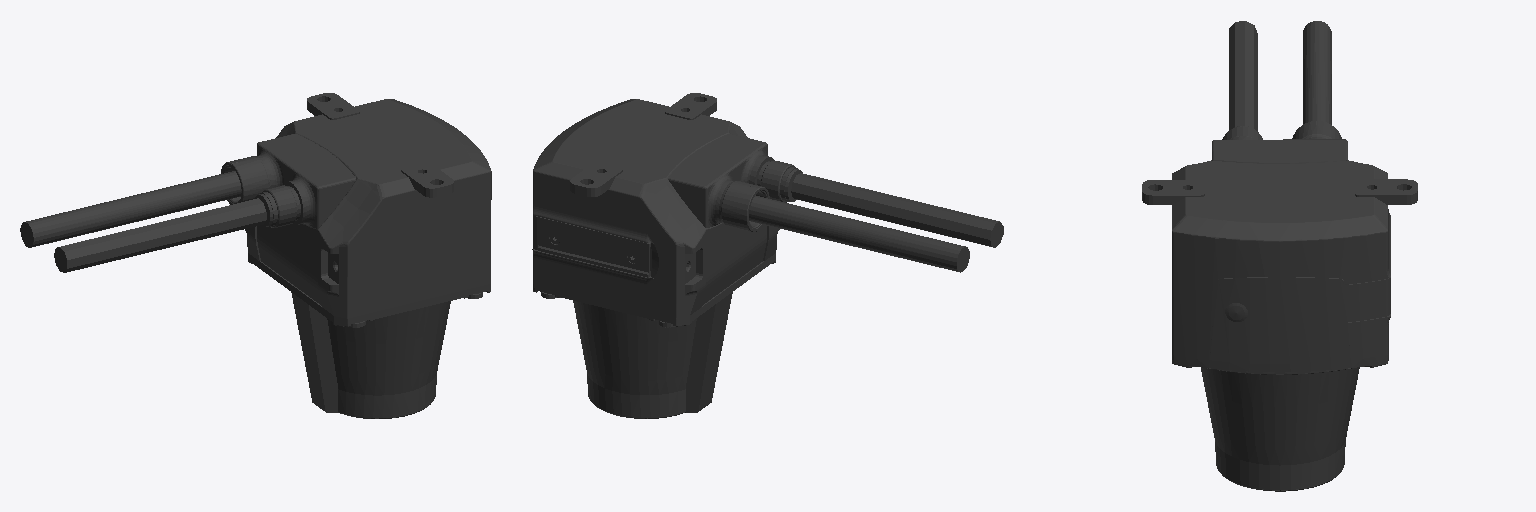
The robot description file, URDF, robot "storagy":
<?xml version="1.0" ?>
<robot name="storagy" xmlns:xacro="http://ros.org/wiki/xacro">
  <!-- <xacro:include filename="$(find storagy)/urdf/common_properties.urdf"/> -->

  <!-- Init colour -->
  <material name="black">
      <color rgba="0.0 0.0 0.0 1.0"/>
  </material>

  <material name="dark">
    <color rgba="0.3 0.3 0.3 1.0"/>
  </material>

  <material name="light_black">
    <color rgba="0.4 0.4 0.4 1.0"/>
  </material>

  <material name="blue">
    <color rgba="0.0 0.0 0.8 1.0"/>
  </material>

  <material name="green">
    <color rgba="0.0 0.8 0.0 1.0"/>
  </material>

  <material name="grey">
    <color rgba="0.5 0.5 0.5 1.0"/>
  </material>

  <material name="orange">
    <color rgba="1.0 0.4235 0.0392 1.0"/>
  </material>

  <material name="brown">
    <color rgba="0.8706 0.8118 0.7647 1.0"/>
  </material>

  <material name="red">
    <color rgba="0.8 0.0 0.0 1.0"/>
  </material>

  <material name="white">
    <color rgba="1.0 1.0 1.0 1.0"/>
  </material>

  <link name="base_footprint"/>

  <joint name="base_joint" type="fixed">
    <parent link="base_footprint"/>
    <child link="base_link" />
    <origin xyz="0 0 0.065" rpy="0 0 0"/>
  </joint>

  <link name="base_link">
    <visual>
      <origin xyz="0.0 0 0.13" rpy="0 0 0"/>
      <geometry>
        <mesh filename="package://storagy/meshes/bases/Main.stl" scale="0.01 0.01 0.01"/>
        <box size="0.4 0.3 0.26"/>
      </geometry>
      <material name="white"/>
    </visual>

    <collision>
      <origin xyz="-0.064 0 0.047" rpy="0 0 0"/>
      <geometry>
        <box size="0.266 0.266 0.094"/>
      </geometry>
    </collision>

    <inertial>
      <origin xyz="0 0 0" rpy="0 0 0"/>
      <mass value="1.3729096e+00"/>
      <inertia ixx="8.7002718e-03" ixy="-4.7576583e-05" ixz="1.1160499e-04"
               iyy="8.6195418e-03" iyz="-3.5422299e-06"
               izz="1.4612727e-02" />
    </inertial>
  </link>

  <joint name="wheel_front_left_joint" type="fixed">
    <parent link="base_link"/>
    <child link="wheel_front_left_link"/>
    <origin xyz="0.0 0.1 0.0" rpy="0 0 0"/>
    <axis xyz="0 1 0"/>
  </joint>

  <link name="wheel_front_left_link">
    <visual>
      <origin xyz="0 0 0" rpy="-1.57 0 0.0"/>
      <geometry>
        <mesh filename="package://storagy/meshes/wheels/Front_left_wheel.stl" scale="0.01 0.01 0.01"/>
        <cylinder length="0.08" radius="0.065"/>
      </geometry>
      <material name="dark"/>
    </visual>

    <collision>
      <origin xyz="0 0 0" rpy="0 0 0"/>
      <geometry>
        <cylinder length="0.018" radius="0.033"/>
      </geometry>
    </collision>

    <inertial>
      <origin xyz="0 0 0" />
      <mass value="2.8498940e-02" />
      <inertia ixx="1.1175580e-05" ixy="-4.2369783e-11" ixz="-5.9381719e-09"
               iyy="1.1192413e-05" iyz="-1.4400107e-11"
               izz="2.0712558e-05" />
      </inertial>
  </link>

  <joint name="wheel_front_right_joint" type="fixed">
    <parent link="base_link"/>
    <child link="wheel_front_right_link"/>
    <origin xyz="0.0 -0.1 0.0" rpy="0 0 0"/>
    <axis xyz="0 1 0"/>
  </joint>

  <link name="wheel_front_right_link">
    <visual>
      <origin xyz="0 0 0" rpy="-1.57 0 0"/>
      <geometry>
        <mesh filename="package://storagy/meshes/wheels/Front_right_wheel.stl" scale="0.01 0.01 0.01"/>
        <cylinder length="0.08" radius="0.065"/>
      </geometry>
      <material name="dark"/>
    </visual>

    <collision>
      <origin xyz="0 0 0" rpy="0 0 0"/>
      <geometry>
        <cylinder length="0.018" radius="0.033"/>
      </geometry>
    </collision>

    <inertial>
      <origin xyz="0 0 0" />
      <mass value="2.8498940e-02" />
      <inertia ixx="1.1175580e-05" ixy="-4.2369783e-11" ixz="-5.9381719e-09"
               iyy="1.1192413e-05" iyz="-1.4400107e-11"
               izz="2.0712558e-05" />
      </inertial>
  </link>

  <joint name="imu_joint" type="fixed">
    <parent link="base_link"/>
    <child link="imu_link"/>
    <origin xyz="0.0 0 0.068" rpy="0 0 0"/>
  </joint>

  <link name="imu_link"/>

  <joint name="front_scan_joint" type="fixed">
    <parent link="base_link"/>
    <child link="front_base_scan"/>
    <origin xyz="0.1525 0.0 0.062" rpy="3.142857143 0 0"/>
  </joint>

  <link name="front_base_scan">
    <visual>
      <origin xyz="0 0 0.0" rpy="0 0 0"/>
      <geometry>
        <mesh filename="package://storagy/meshes/sensors/lidar.stl" scale="0.01 0.01 0.01"/>
      </geometry>
      <material name="dark"/>
    </visual>

    <collision>
      <origin xyz="0.015 0 -0.0065" rpy="0 0 0"/>
      <geometry>
        <cylinder length="0.0315" radius="0.055"/>
      </geometry>
    </collision>

    <inertial>
      <mass value="0.114" />
      <origin xyz="0 0 0" />
      <inertia ixx="0.001" ixy="0.0" ixz="0.0"
               iyy="0.001" iyz="0.0"
               izz="0.001" />
    </inertial>
  </link>

  <joint name="camera_joint" type="fixed">
    <origin xyz="0.198 0.0 0.2295" rpy="0 0 0"/>
    <parent link="base_link"/>
    <child link="camera_link"/>
  </joint>

  <link name="camera_link">
    <visual>
      <origin xyz="0.0 0.0 0.0" rpy="0 0 0"/>
      <geometry>
        <mesh filename="package://storagy/meshes/sensors/camera.stl" scale="0.01 0.01 0.01"/>
      </geometry>
      <material name="light_black"/>
    </visual>
    <collision>
      <origin xyz="0.0 0.0 0.0" rpy="0 0 0"/>
      <geometry>
        <mesh filename="package://storagy/meshes/sensors/camera.stl" scale="0.01 0.01 0.01"/>
      </geometry>
    </collision>
  </link>

  <joint name="camera_rgb_joint" type="fixed">
    <origin xyz="0.003 0.011 0.009" rpy="3.14 0 0"/>
    <parent link="camera_link"/>
    <child link="camera_rgb_frame"/>
  </joint>
  <link name="camera_rgb_frame"/>

  <joint name="camera_rgb_optical_joint" type="fixed">
    <origin xyz="0 0 0" rpy="-1.57 0 -1.57"/>
    <parent link="camera_rgb_frame"/>
    <child link="camera_rgb_optical_frame"/>
  </joint>
  <link name="camera_rgb_optical_frame"/>

</robot>

--- Render facts (derived) ---
Views: 3 orthographic renders of the robot side by side, from view 1: azimuth 30°, elevation 25°; view 2: azimuth 150°, elevation 25°; view 3: azimuth 270°, elevation 25°.
Robot: storagy — 9 links, 8 joints (8 fixed); root link base_footprint; default pose: every joint at zero.
Links seen in each view (by area): view 1: front_base_scan; view 2: front_base_scan; view 3: front_base_scan.
Boxes of the visible links, left/top/right/bottom form: front_base_scan: left=20, top=93, right=491, bottom=418; front_base_scan: left=532, top=93, right=1003, bottom=418; front_base_scan: left=1142, top=21, right=1417, bottom=491.
Size in the robot's own frame: 0.1463 by 0.0763 by 0.0864 metres.
Meshes: 5 distinct files referenced, 1 mesh visuals loaded (1 binary STL); not drawn: 4 (reference not matched to a file when rendering).